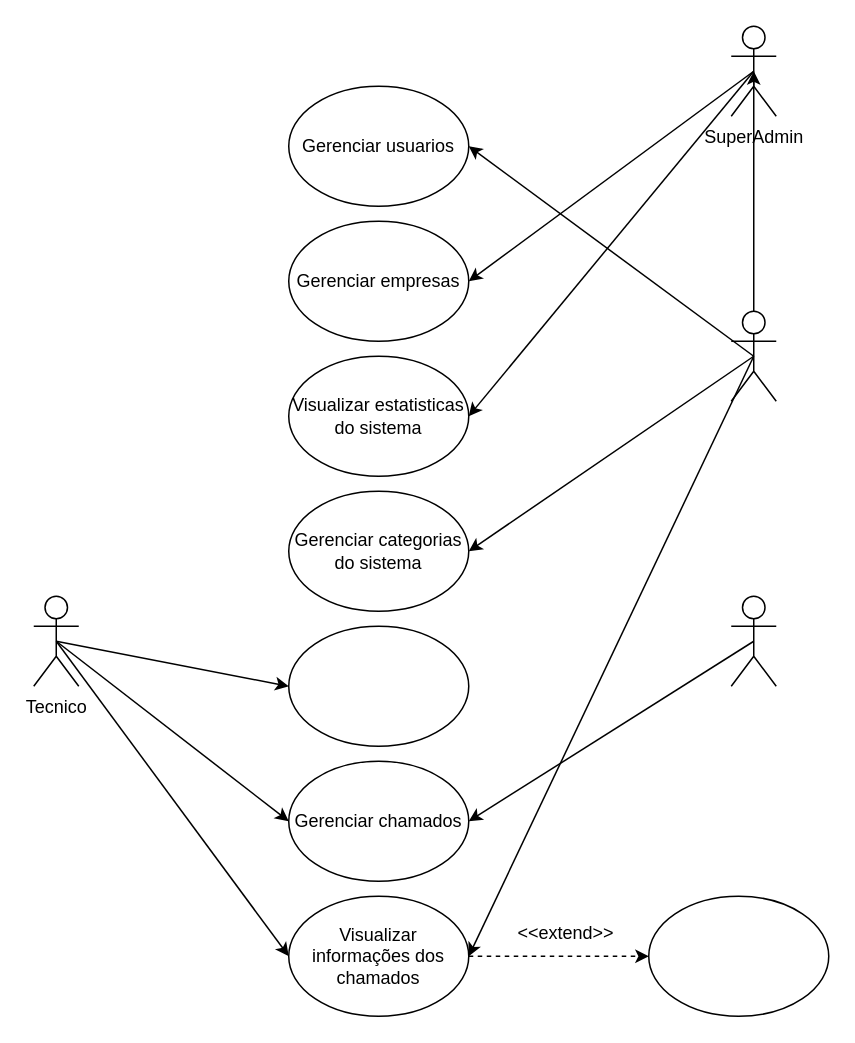
This 855x1043 diagram has some shape labels left out. The shapes that lost their labels are listed below. From the top down, each one's box as (x1, y1, x2, y2) in pixels, then its label:
(730, 310, 776, 401): Admin
(730, 595, 776, 686): Cliente
(287, 625, 469, 746): Assumir chamados
(647, 895, 829, 1016): Filtra chamados por titulo, prioridade, categoria e status
